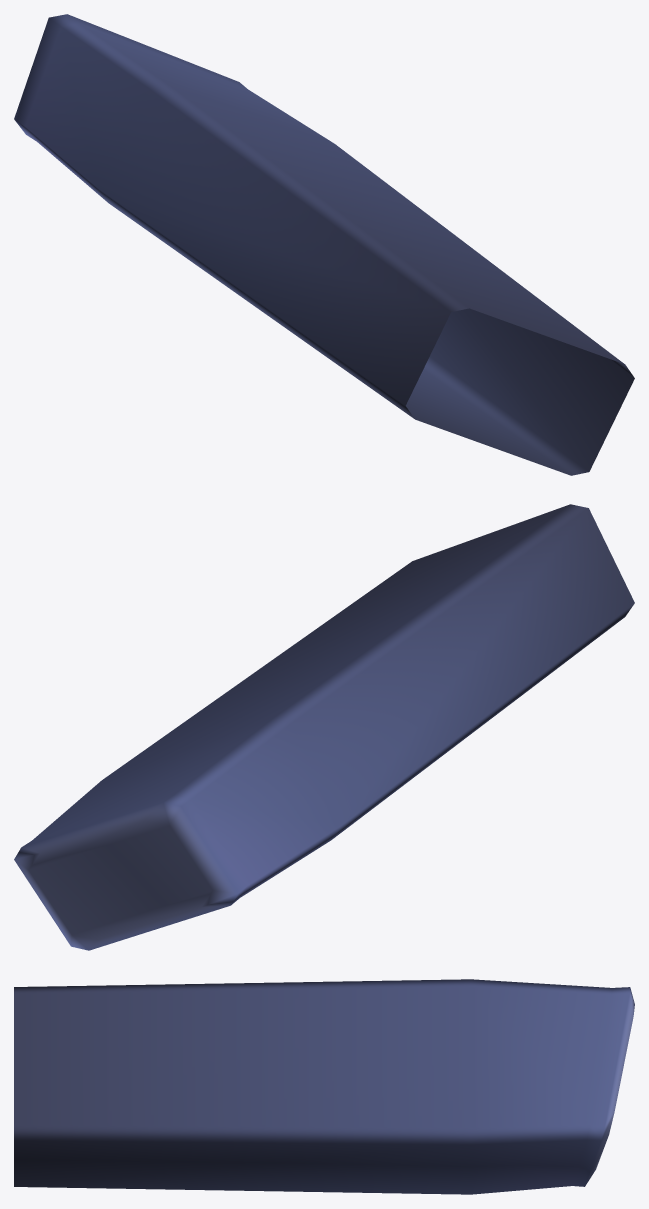
File: Mountain_Cliff_02 (1).fbx
3 renders of one model, top to bottom at view 1: azimuth 30°, elevation 25°; view 2: azimuth 150°, elevation 25°; view 3: azimuth 270°, elevation 25°, orthographic. The views are drawn at different scales.
Parts seen in each view (by area): view 1: Mountain_Cliff_02; view 2: Mountain_Cliff_02; view 3: Mountain_Cliff_02.
Part boxes in pixels (x1,y1,x2,y2): Mountain_Cliff_02: (14, 14, 634, 475); Mountain_Cliff_02: (14, 504, 634, 950); Mountain_Cliff_02: (14, 979, 634, 1194).
Bounding box in the file's own units: 928 × 749 × 2638.
